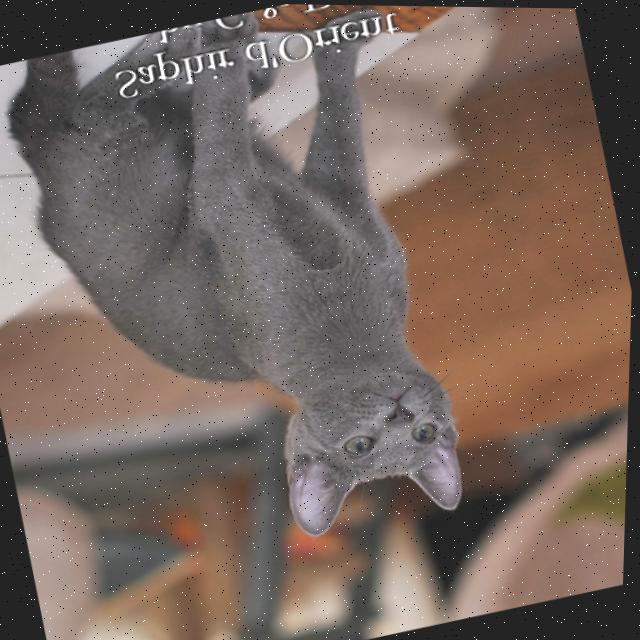Russian Blue: (0, 0, 498, 599)
